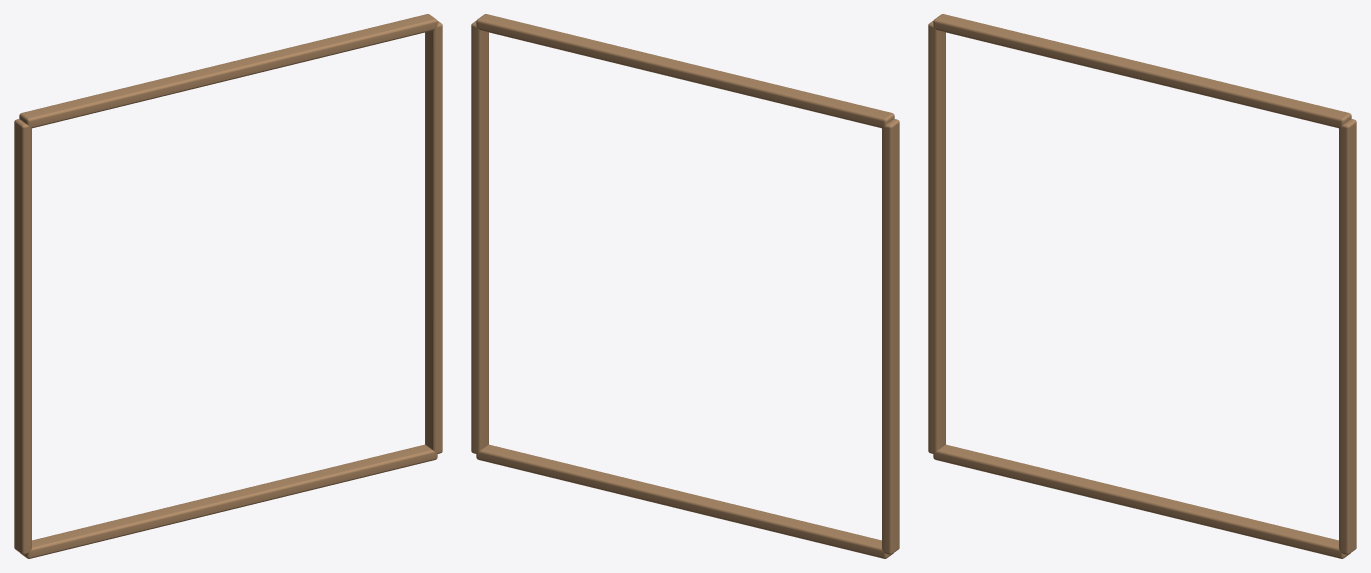
Rendered from atelier-decorative-wall-molding.glb.
The picture shows the model from 3 angles, left to right: view 1: azimuth 30°, elevation 25°; view 2: azimuth 150°, elevation 25°; view 3: azimuth 330°, elevation 25°; orthographic projection.
Parts seen in each view (by area): view 1: legs.132; view 2: legs.132; view 3: legs.132.
Part boxes in pixels (box(x1,y1,x2,y2)): legs.132: box(14, 14, 442, 558); legs.132: box(471, 14, 899, 558); legs.132: box(928, 14, 1356, 558).
Size of the model in its own units: 1.03 by 1.03 by 0.04.
